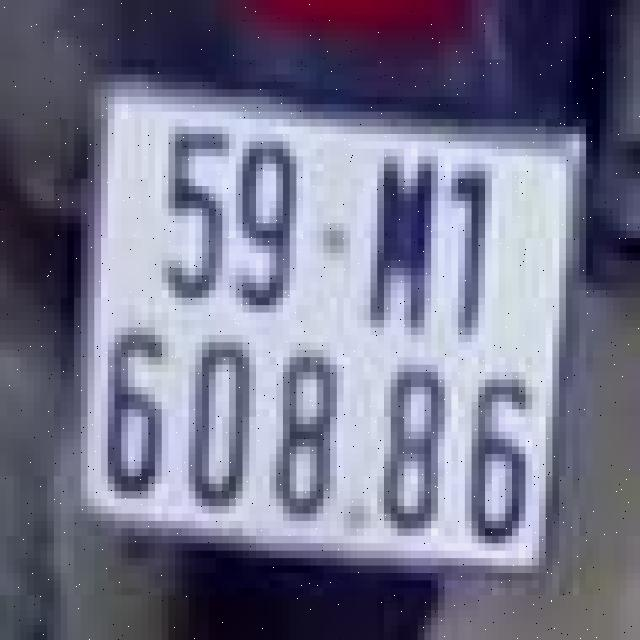0: (178, 331, 260, 517)
1: (448, 160, 502, 353)
5: (155, 119, 229, 313)
6: (462, 364, 542, 566), (94, 316, 175, 502)
8: (262, 342, 344, 536), (377, 353, 445, 540)
9: (239, 126, 307, 328)
m: (361, 134, 442, 342)
